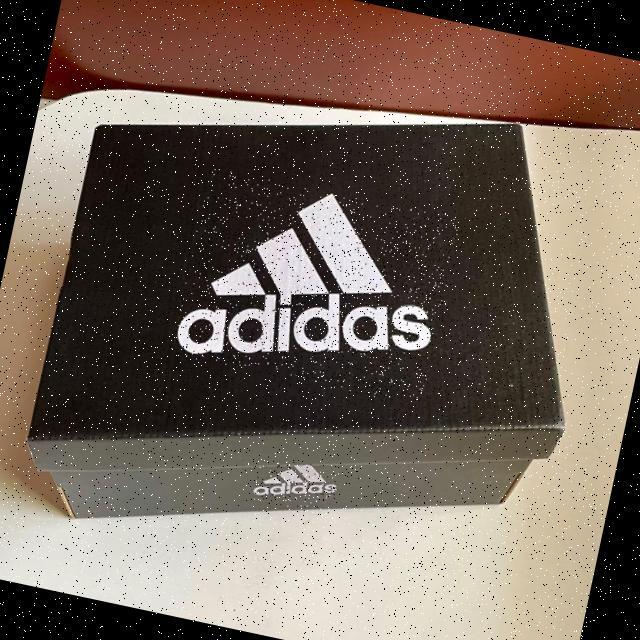Adidas: (170, 165, 460, 407), (251, 454, 339, 516)
